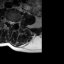CCS_normal: (10, 19, 12, 28)
LFS_stenosis: (14, 19, 16, 25)
LLS_normal: (12, 18, 14, 26)
RFS_normal: (6, 17, 8, 25)
RLS_normal: (8, 18, 10, 26)
